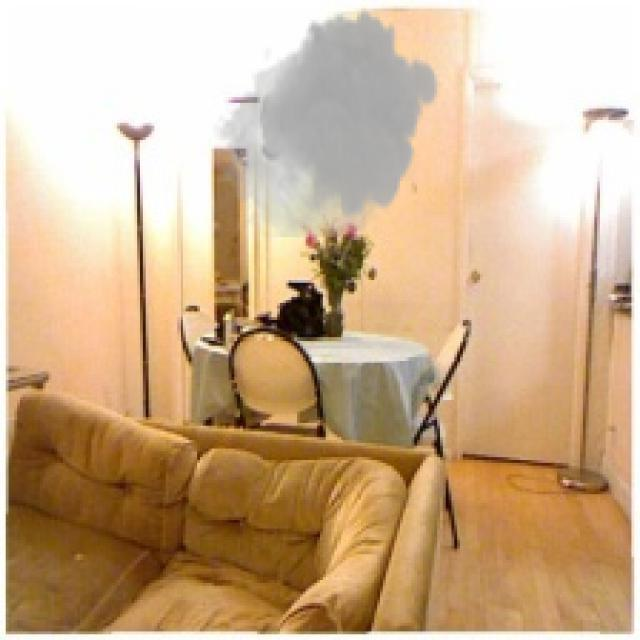Smoke: (212, 6, 439, 238)
